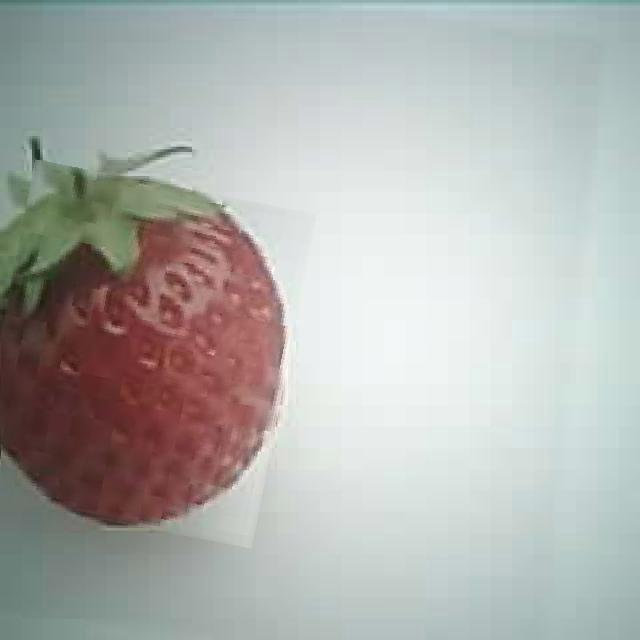strawberry: (0, 171, 302, 536)
